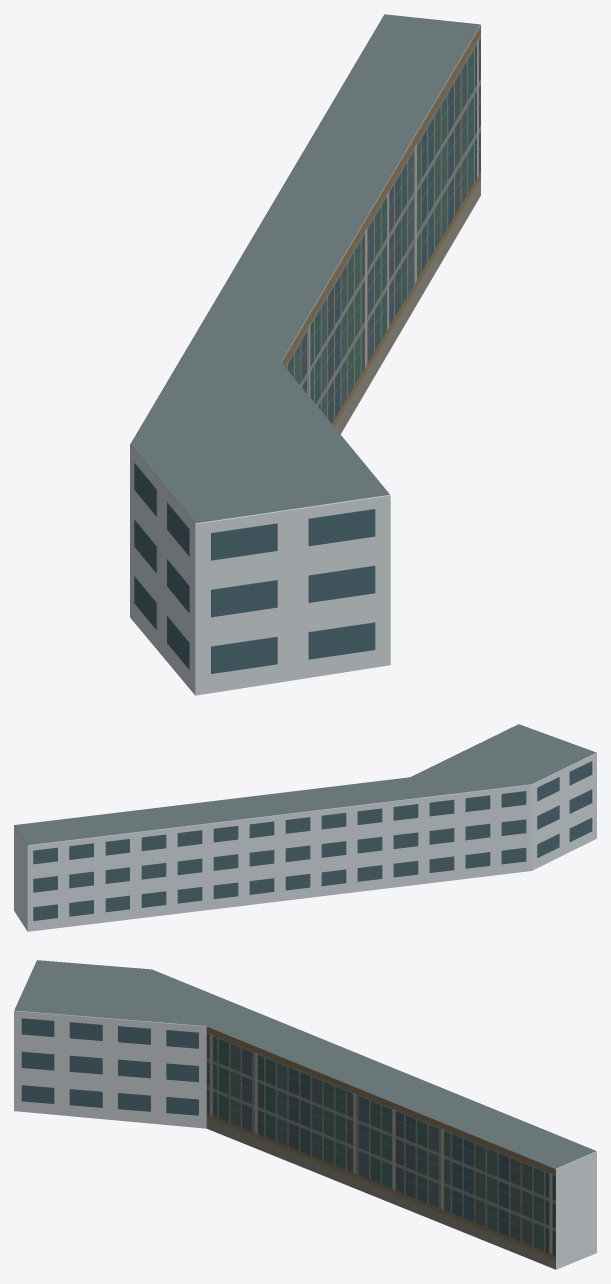
The model's file is fragments.glb.
The picture shows the model from 3 angles, top to bottom: view 1: azimuth 30°, elevation 25°; view 2: azimuth 150°, elevation 25°; view 3: azimuth 270°, elevation 25°; orthographic projection. The views are drawn at different scales.
Parts seen in each view (by area): view 1: SM_lifelong_Fragment_009, SM_lifelong_Fragment_052, SM_lifelong_Fragment_025, SM_lifelong_Fragment_007, SM_lifelong_Fragment_028, SM_lifelong_Fragment_016, SM_lifelong_Fragment_008, SM_lifelong_Fragment_006, SM_lifelong_Fragment_059, SM_lifelong_Fragment_042, SM_lifelong_Fragment_014, SM_lifelong_Fragment_034 (+27 smaller); view 2: SM_lifelong_Fragment_021, SM_lifelong_Fragment_048, SM_lifelong_Fragment_042, SM_lifelong_Fragment_043, SM_lifelong_Fragment_031, SM_lifelong_Fragment_002, SM_lifelong_Fragment_004, SM_lifelong_Fragment_037, SM_lifelong_Fragment_030, SM_lifelong_Fragment_041, SM_lifelong_Fragment_034, SM_lifelong_Fragment_060 (+35 smaller); view 3: SM_lifelong_Fragment_011, SM_lifelong_Fragment_009, SM_lifelong_Fragment_029, SM_lifelong_Fragment_050, SM_lifelong_Fragment_035, SM_lifelong_Fragment_023, SM_lifelong_Fragment_022, SM_lifelong_Fragment_047, SM_lifelong_Fragment_036, SM_lifelong_Fragment_010, SM_lifelong_Fragment_059, SM_lifelong_Fragment_046 (+32 smaller).
Part boxes in pixels (bbox=[...]): SM_lifelong_Fragment_009: bbox=[305, 462, 390, 598]; SM_lifelong_Fragment_052: bbox=[164, 485, 294, 582]; SM_lifelong_Fragment_025: bbox=[249, 552, 375, 681]; SM_lifelong_Fragment_007: bbox=[167, 531, 277, 655]; SM_lifelong_Fragment_028: bbox=[158, 606, 284, 695]; SM_lifelong_Fragment_016: bbox=[157, 436, 310, 491]; SM_lifelong_Fragment_008: bbox=[170, 329, 297, 389]; SM_lifelong_Fragment_006: bbox=[296, 595, 390, 679]; SM_lifelong_Fragment_059: bbox=[279, 167, 393, 255]; SM_lifelong_Fragment_042: bbox=[205, 274, 319, 330]; SM_lifelong_Fragment_014: bbox=[185, 386, 327, 436]; SM_lifelong_Fragment_034: bbox=[130, 404, 229, 495]; SM_lifelong_Fragment_021: bbox=[429, 784, 494, 853]; SM_lifelong_Fragment_048: bbox=[116, 859, 185, 919]; SM_lifelong_Fragment_042: bbox=[320, 784, 383, 840]; SM_lifelong_Fragment_043: bbox=[105, 809, 169, 863]; SM_lifelong_Fragment_031: bbox=[55, 840, 113, 895]; SM_lifelong_Fragment_002: bbox=[308, 847, 382, 897]; SM_lifelong_Fragment_004: bbox=[20, 876, 73, 931]; SM_lifelong_Fragment_037: bbox=[185, 854, 246, 910]; SM_lifelong_Fragment_030: bbox=[429, 843, 507, 882]; SM_lifelong_Fragment_041: bbox=[532, 768, 570, 839]; SM_lifelong_Fragment_034: bbox=[477, 768, 551, 810]; SM_lifelong_Fragment_060: bbox=[391, 795, 440, 853]; SM_lifelong_Fragment_011: bbox=[130, 1062, 215, 1129]; SM_lifelong_Fragment_009: bbox=[14, 988, 63, 1075]; SM_lifelong_Fragment_029: bbox=[38, 1029, 120, 1098]; SM_lifelong_Fragment_050: bbox=[136, 1009, 210, 1065]; SM_lifelong_Fragment_035: bbox=[232, 1036, 287, 1116]; SM_lifelong_Fragment_023: bbox=[387, 1104, 443, 1177]; SM_lifelong_Fragment_022: bbox=[279, 1053, 339, 1120]; SM_lifelong_Fragment_047: bbox=[61, 999, 129, 1057]; SM_lifelong_Fragment_036: bbox=[229, 1095, 296, 1164]; SM_lifelong_Fragment_010: bbox=[525, 1176, 583, 1233]; SM_lifelong_Fragment_059: bbox=[354, 1075, 421, 1134]; SM_lifelong_Fragment_046: bbox=[445, 1123, 514, 1174].
Size of the model in its own units: 1.87 by 0.4273 by 2.2.
Materials: 5 (1 with a texture image).
